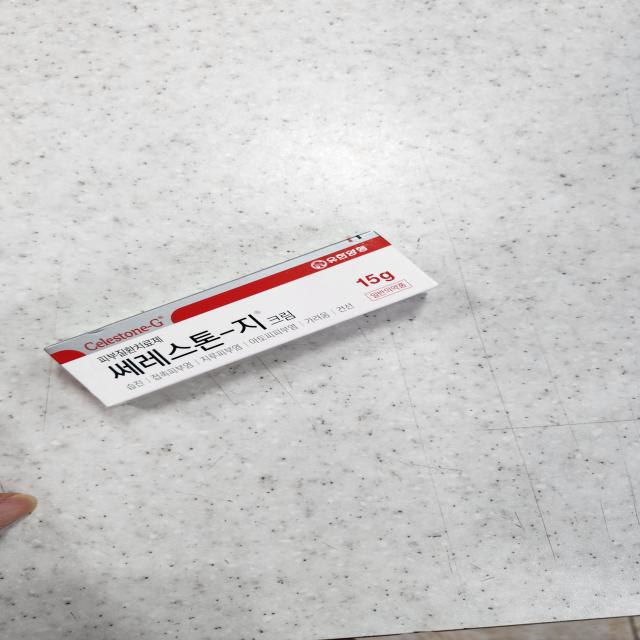box: (45, 232, 436, 406)
